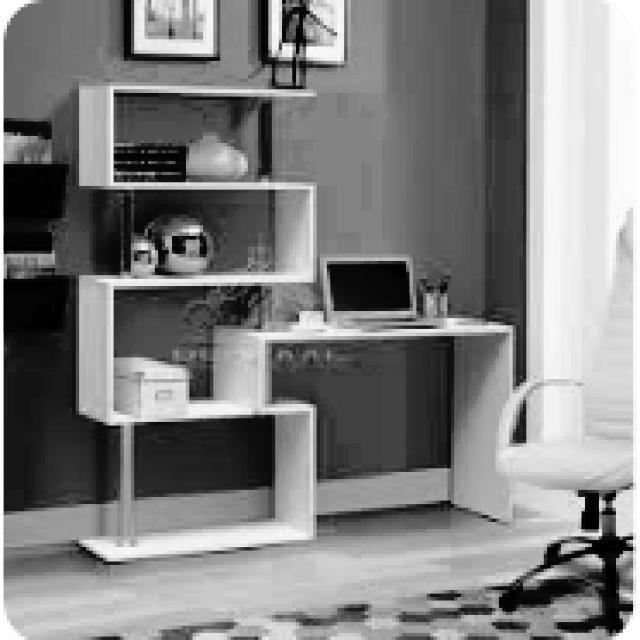book: (492, 204, 633, 633)
table: (210, 315, 516, 522)
